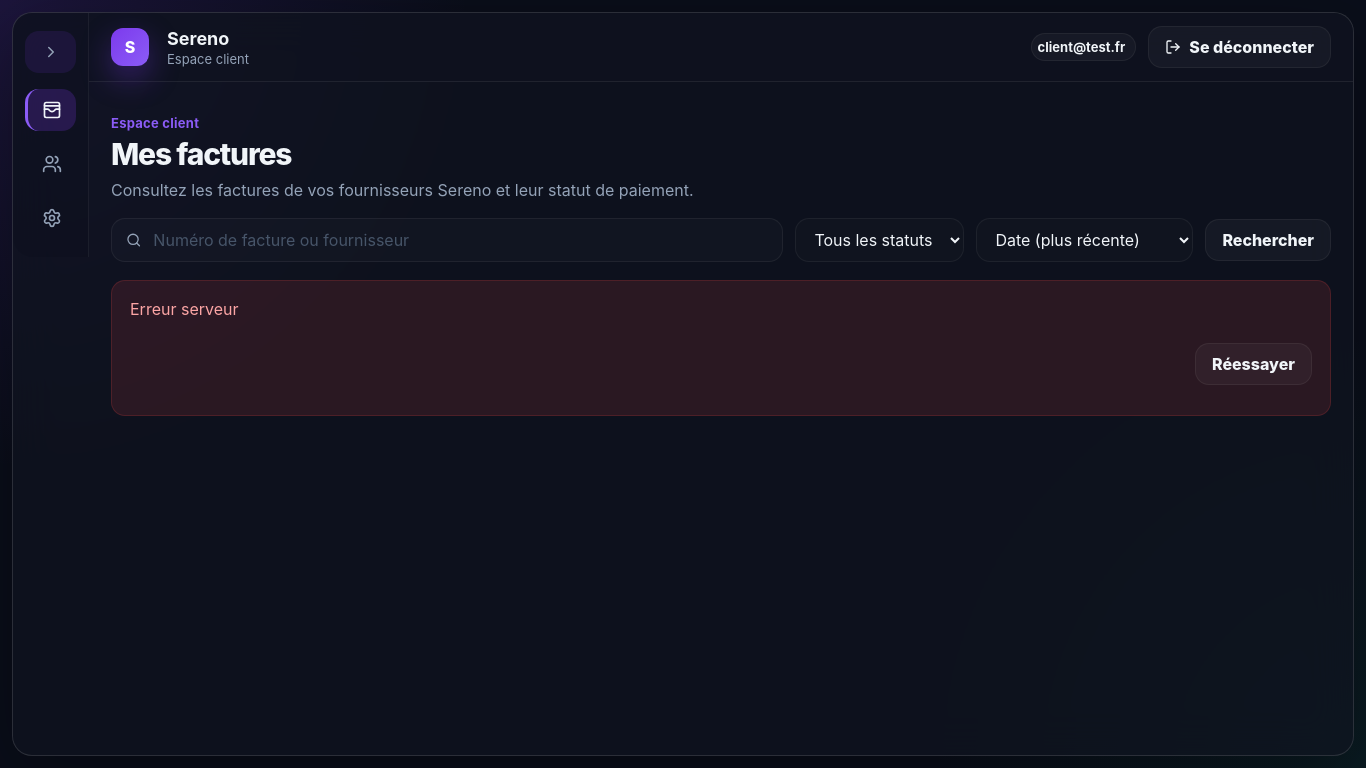
Test: EspaceClientFacturesPage › erreur -> état d'erreur avec bouton Réessayer qui relance l'appel
The image size is (1366, 768).
Expected: the text "Erreur serveur" is shown, [130, 299, 238, 319]
Click the button "Réessayer". click: click(1254, 364)
box: [1195, 343, 1312, 385]
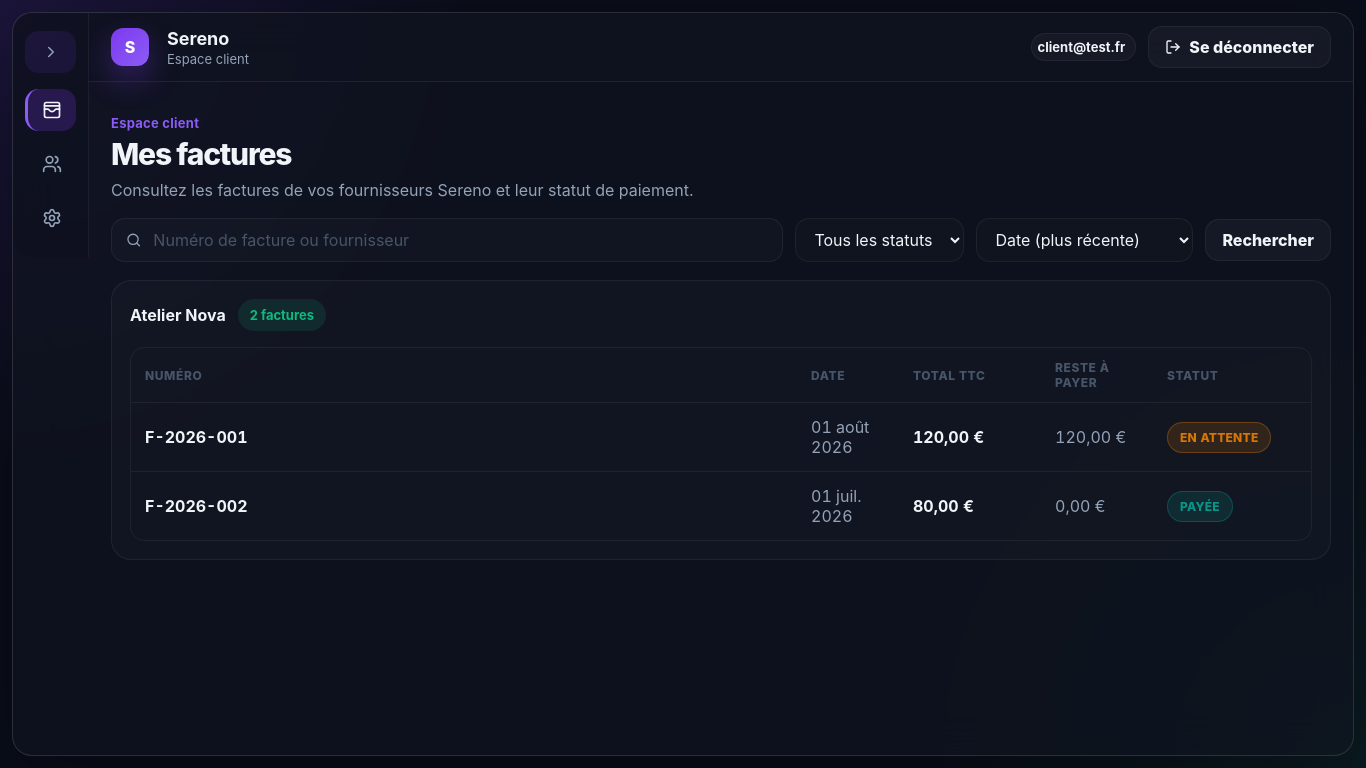
Expected: the text "Atelier Nova" is shown, [130, 305, 226, 325]
